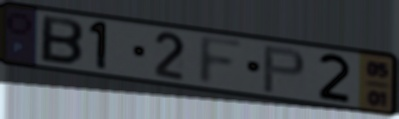1: (84, 20, 110, 75)
2: (317, 53, 352, 105), (152, 31, 187, 83)
B: (38, 13, 86, 68)
F: (196, 34, 248, 88)
P: (261, 44, 308, 95)
